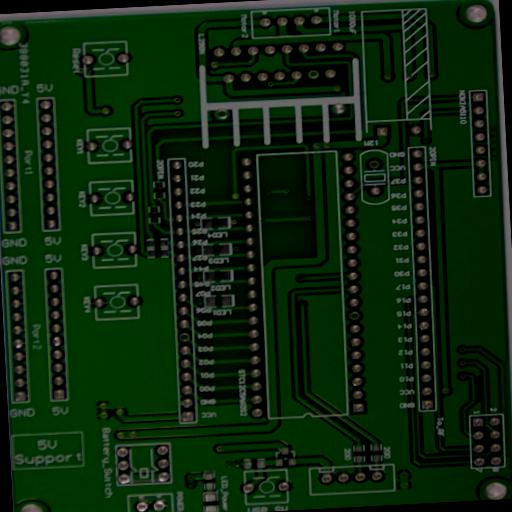missing_hole: (215, 106, 230, 118), (178, 330, 192, 342), (368, 158, 382, 169), (348, 309, 361, 320), (307, 68, 320, 78)
